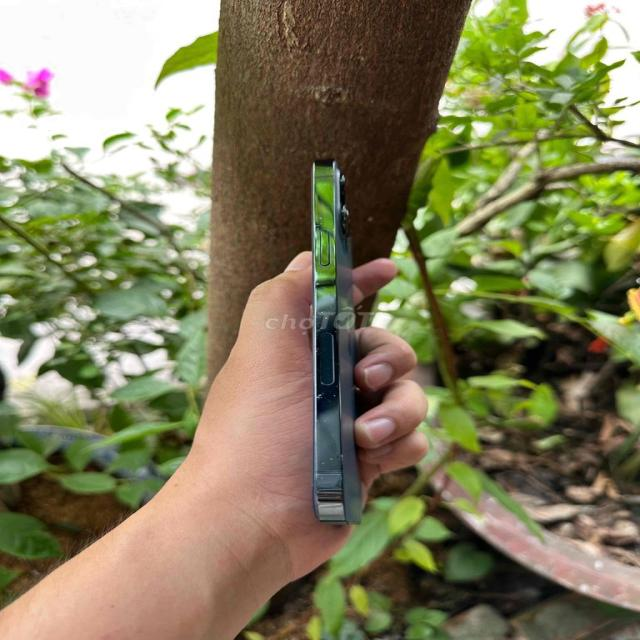gen_12_13: (272, 147, 401, 528)
